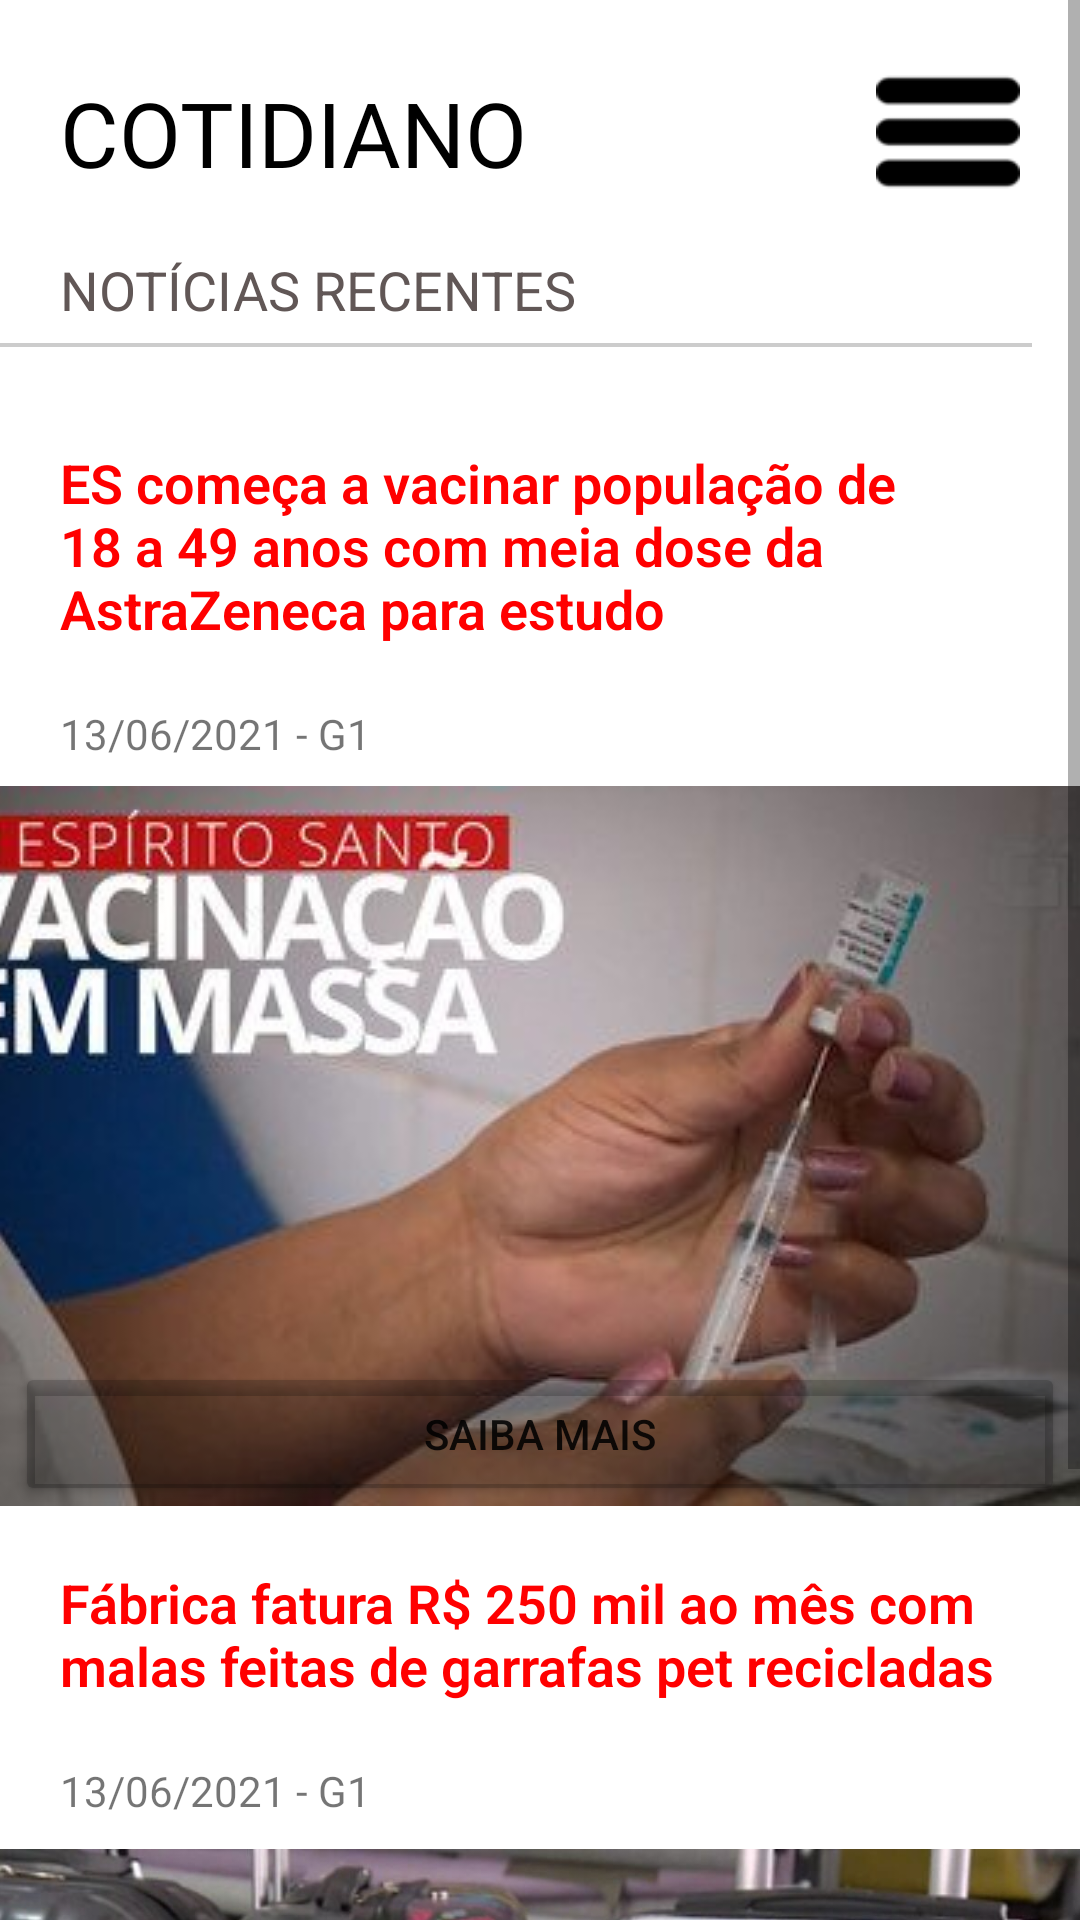

Icons on this 1080w x 1920h Android screen, each with the point to tap as (x=x, y=y):
hamburguer: (x=948, y=132)
